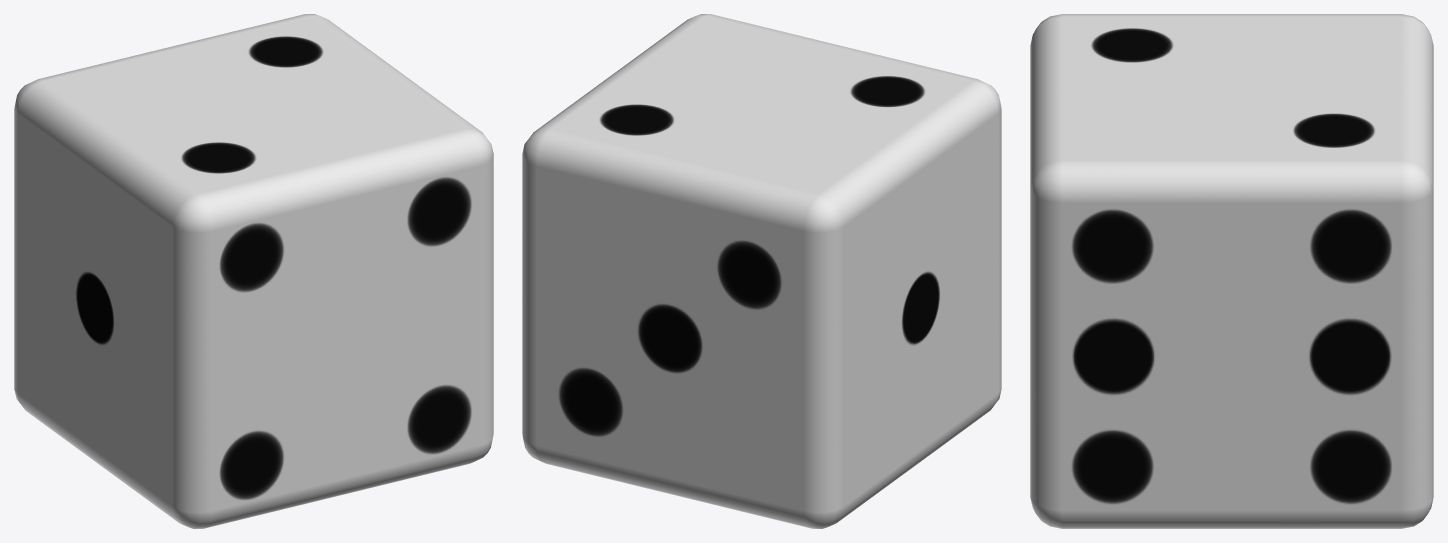
File: die.glb
3 views of the same model, side by side, from view 1: azimuth 30°, elevation 25°; view 2: azimuth 150°, elevation 25°; view 3: azimuth 270°, elevation 25° (orthographic). The views are drawn at different scales.
Parts seen in each view (by area): view 1: Cube_0; view 2: Cube_0; view 3: Cube_0.
Part boxes in pixels (x1,y1,x2,y2): Cube_0: (14, 14, 493, 528); Cube_0: (522, 14, 1001, 528); Cube_0: (1030, 14, 1433, 528).
Bounding box in the file's own units: 0.0295 × 0.0295 × 0.0295.
Materials: 1 (1 with a texture image).
